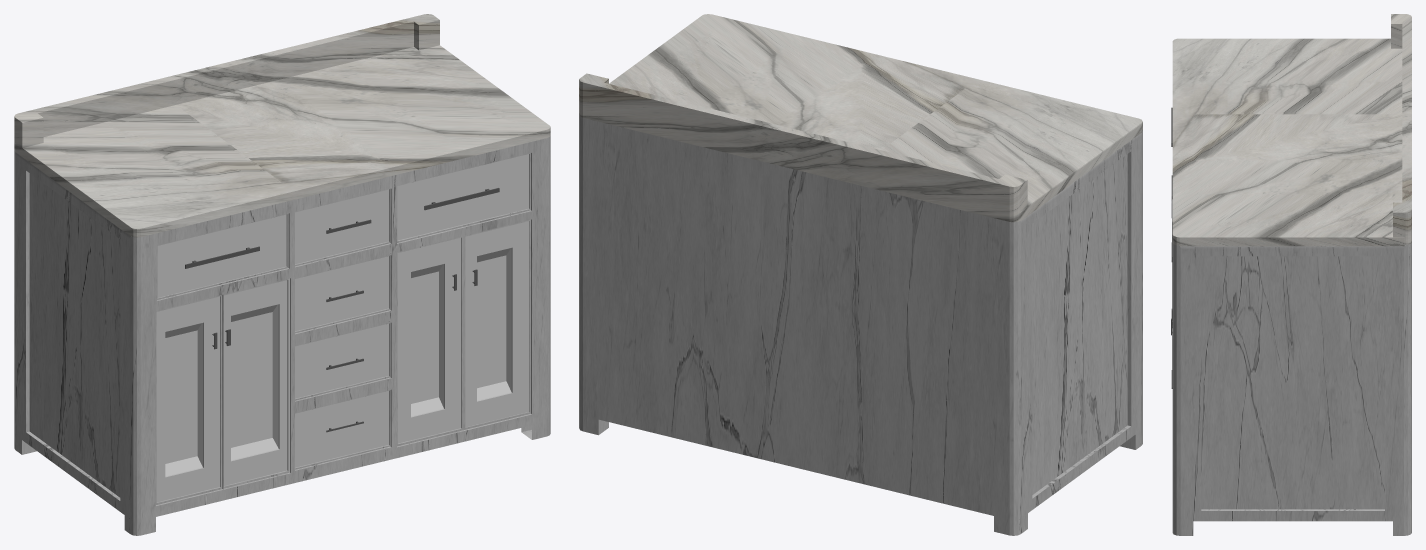
Rendered from vanite.glb.
The picture shows the model from 3 angles, left to right: view 1: azimuth 30°, elevation 25°; view 2: azimuth 150°, elevation 25°; view 3: azimuth 270°, elevation 25°; orthographic projection. The views are drawn at different scales.
Visible parts, largest first — view 1: Gaveta09_Drawer_0, Stone_Marble_0, Gaveta02_Drawer_0, Gaveta01_Drawer_0, Gaveta03_Drawer_0; view 2: Gaveta09_Drawer_0, Stone_Marble_0; view 3: Gaveta09_Drawer_0, Stone_Marble_0.
Part boxes in pixels (bbox=[...]): Gaveta09_Drawer_0: bbox=[14, 136, 550, 535]; Stone_Marble_0: bbox=[14, 14, 550, 237]; Gaveta02_Drawer_0: bbox=[397, 154, 528, 240]; Gaveta01_Drawer_0: bbox=[157, 214, 286, 297]; Gaveta03_Drawer_0: bbox=[295, 189, 388, 264]; Gaveta09_Drawer_0: bbox=[579, 115, 1142, 535]; Stone_Marble_0: bbox=[579, 14, 1142, 222]; Gaveta09_Drawer_0: bbox=[1171, 199, 1411, 535]; Stone_Marble_0: bbox=[1172, 14, 1411, 246].
Bounding box in the file's own units: 1.32 × 0.9989 × 0.6752.
Materials: 4 (2 with a texture image).
